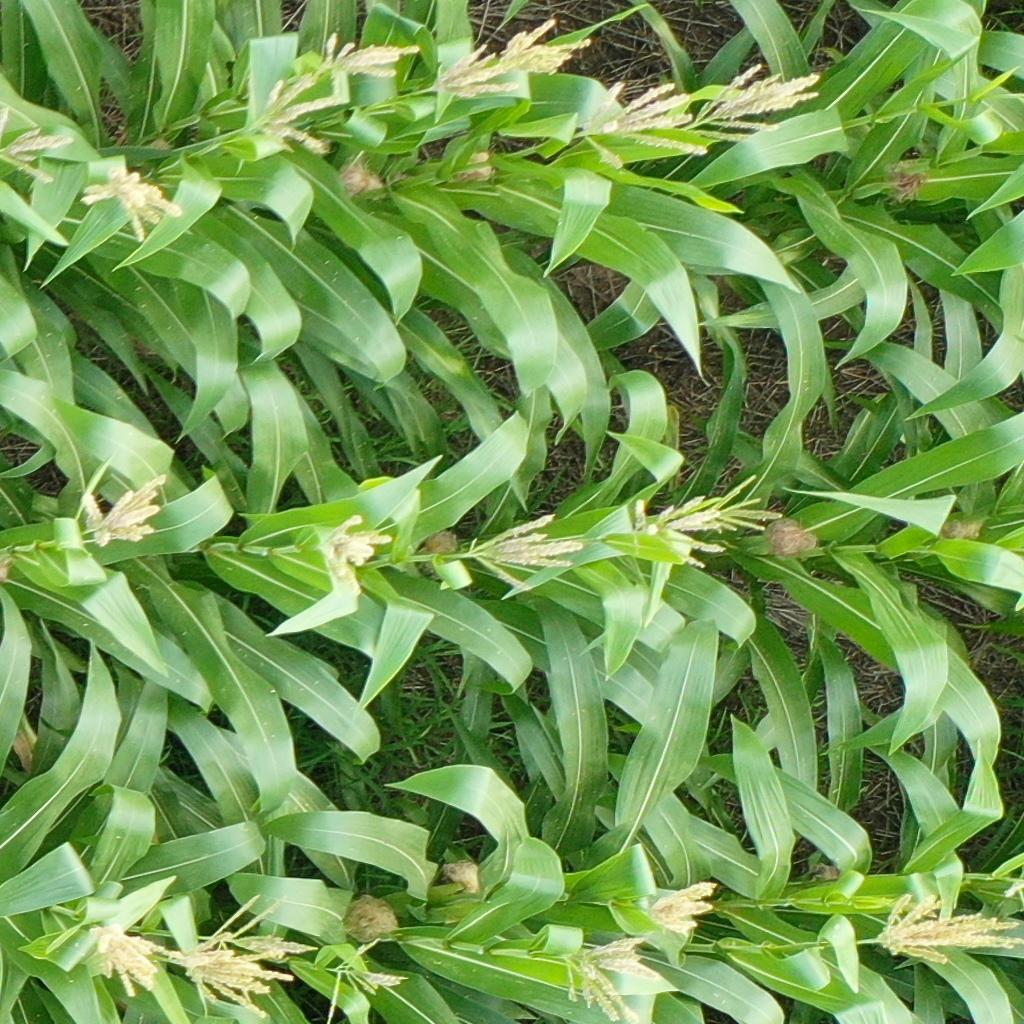Tassel: (873, 891, 1024, 966), (581, 82, 708, 171), (694, 63, 820, 144), (468, 514, 584, 594), (89, 897, 175, 1000), (176, 946, 293, 1019), (82, 161, 183, 245), (567, 930, 649, 1024), (248, 78, 346, 153), (327, 938, 407, 1024), (635, 495, 726, 570), (76, 474, 166, 547), (221, 896, 316, 962), (499, 19, 594, 78), (427, 42, 518, 103), (316, 513, 392, 581), (322, 31, 421, 80), (1, 125, 75, 187), (712, 473, 783, 535), (648, 879, 722, 934)
